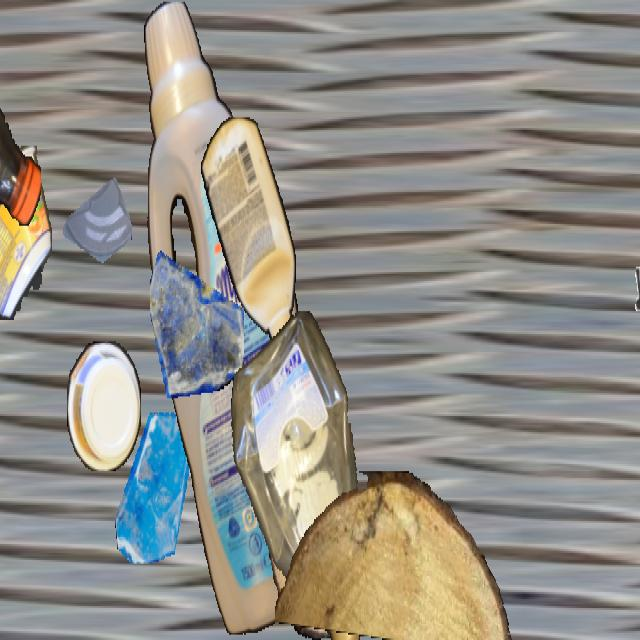glass: (150, 231, 244, 398), (113, 412, 197, 562), (63, 166, 131, 286)
metal: (265, 267, 327, 377), (626, 261, 640, 347)
plastic: (142, 2, 346, 634), (226, 311, 372, 638), (201, 117, 295, 345), (67, 342, 141, 469), (0, 2, 40, 229), (0, 146, 51, 320)
wood: (275, 471, 515, 638), (267, 450, 343, 638)
